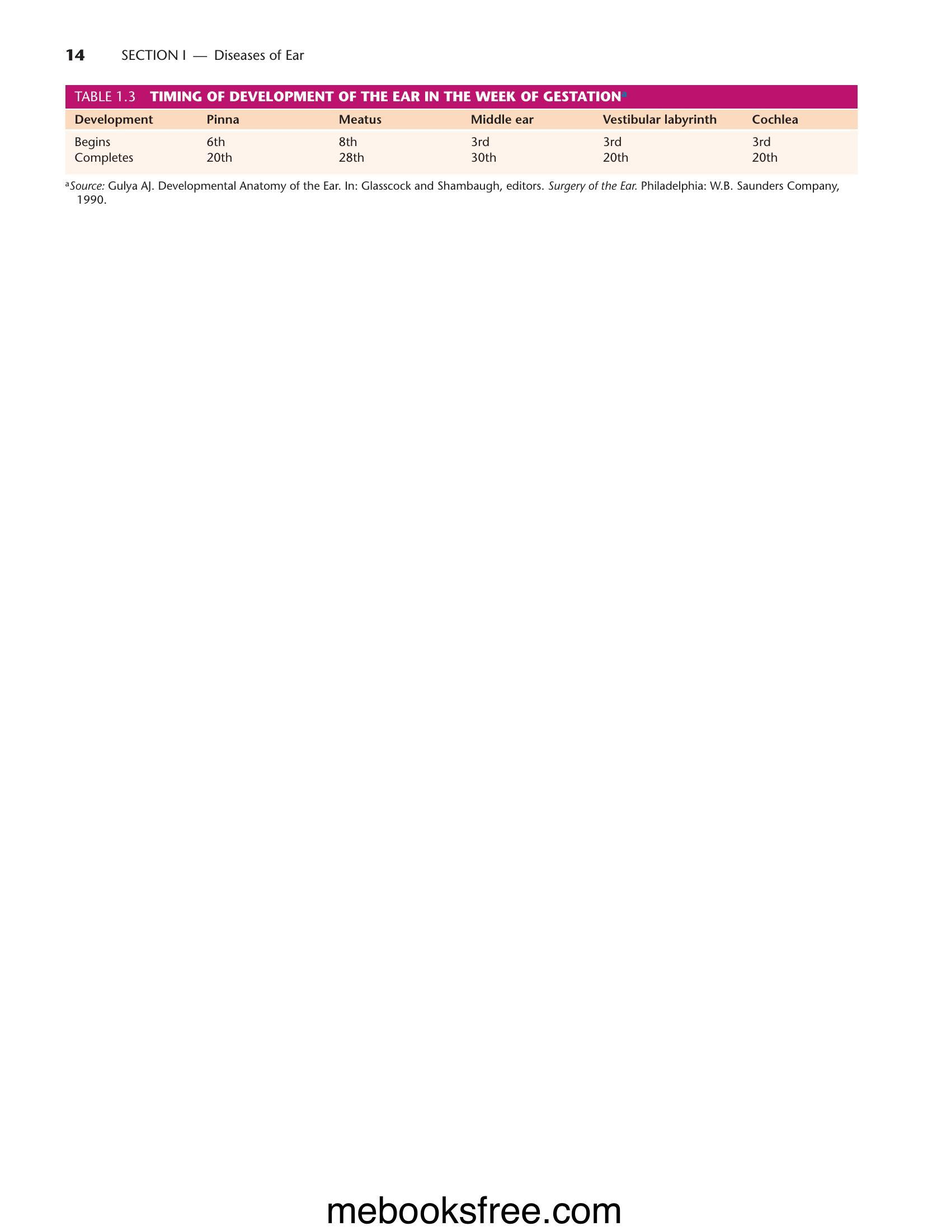caption: (73, 90, 623, 103)
header: (121, 49, 306, 61)
table: (64, 108, 857, 204)
